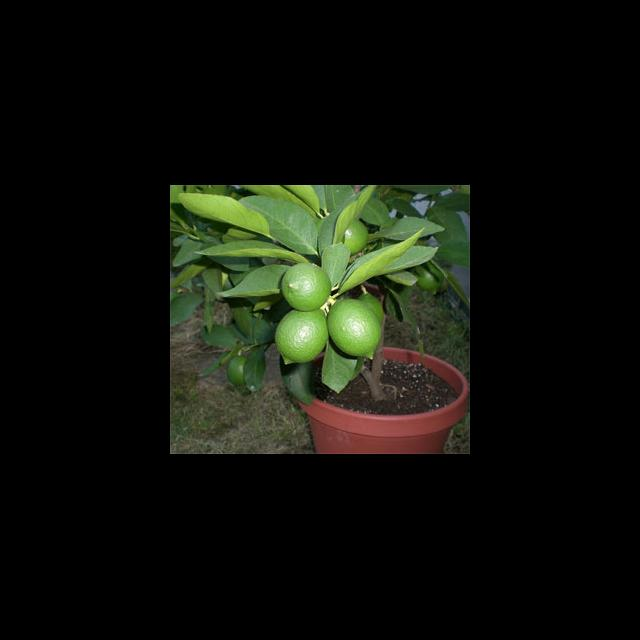lime: (327, 299, 383, 360), (274, 308, 329, 368), (280, 264, 332, 312), (342, 220, 370, 256), (226, 356, 249, 388)
